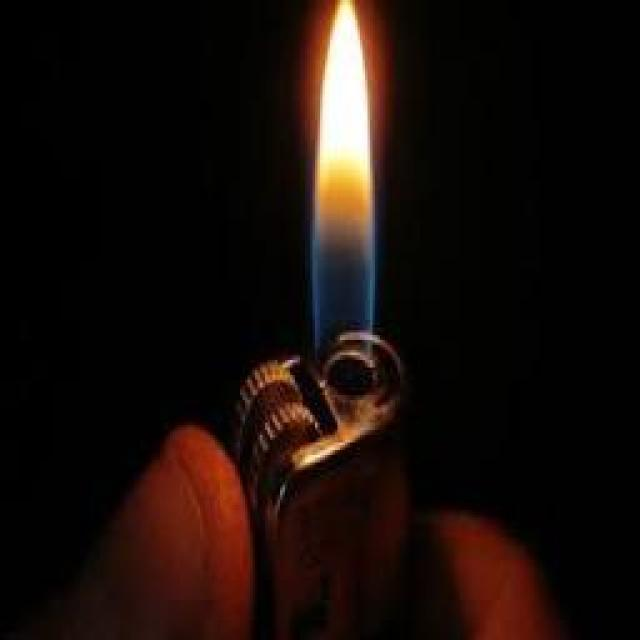fire: (312, 0, 376, 355)
